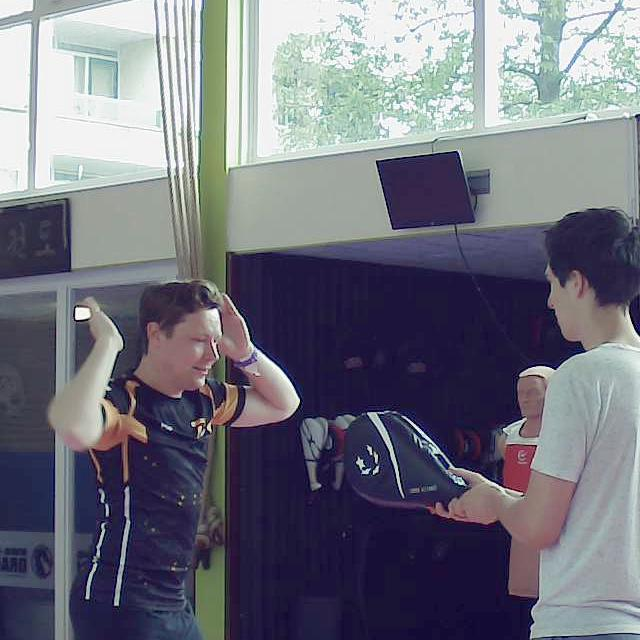paddle: (341, 410, 472, 514)
